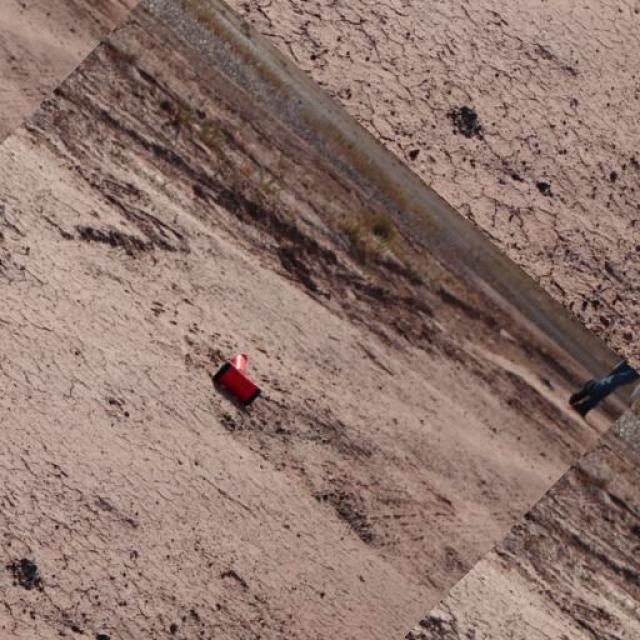mallet: (210, 351, 261, 405)
